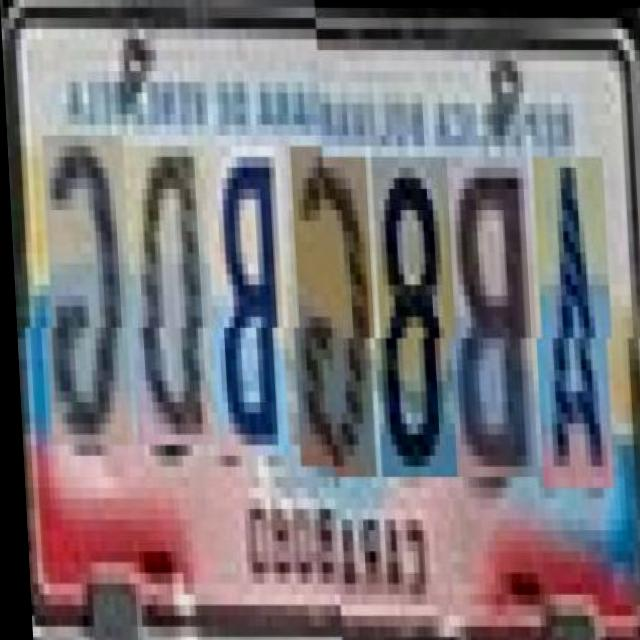8: (363, 157, 452, 477)
a: (525, 157, 610, 488)
b: (439, 157, 533, 477), (202, 156, 285, 466)
d: (122, 157, 210, 456)
g: (35, 145, 129, 456), (283, 157, 372, 477)
